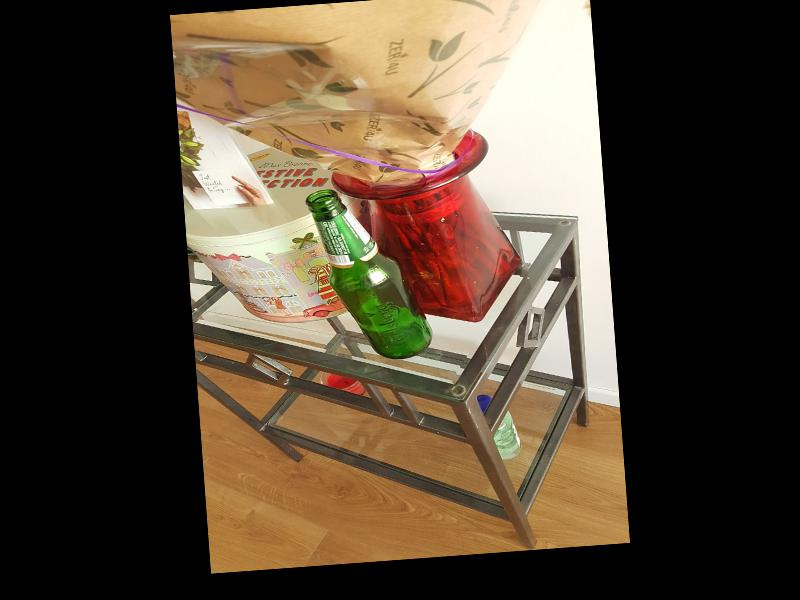Beer: (307, 182, 433, 364)
